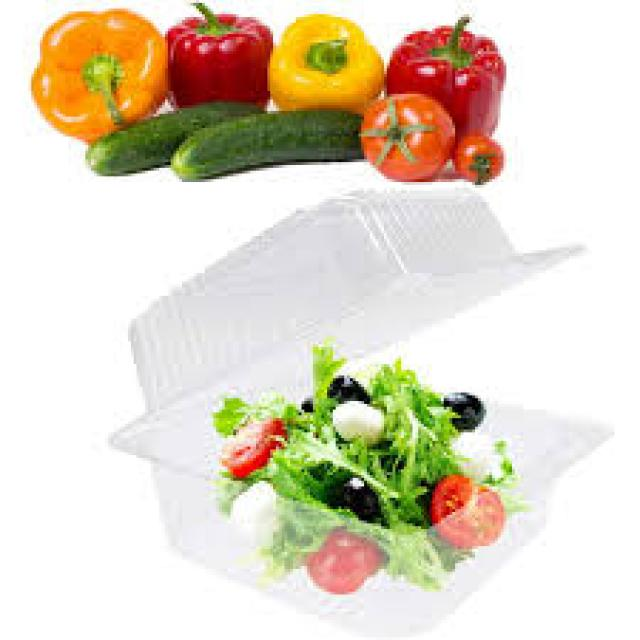disposable: (96, 363, 625, 640)
